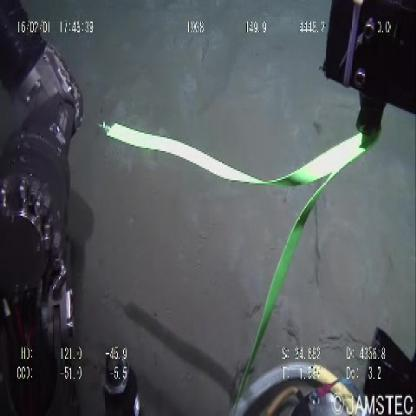Rov: (0, 3, 142, 415)
